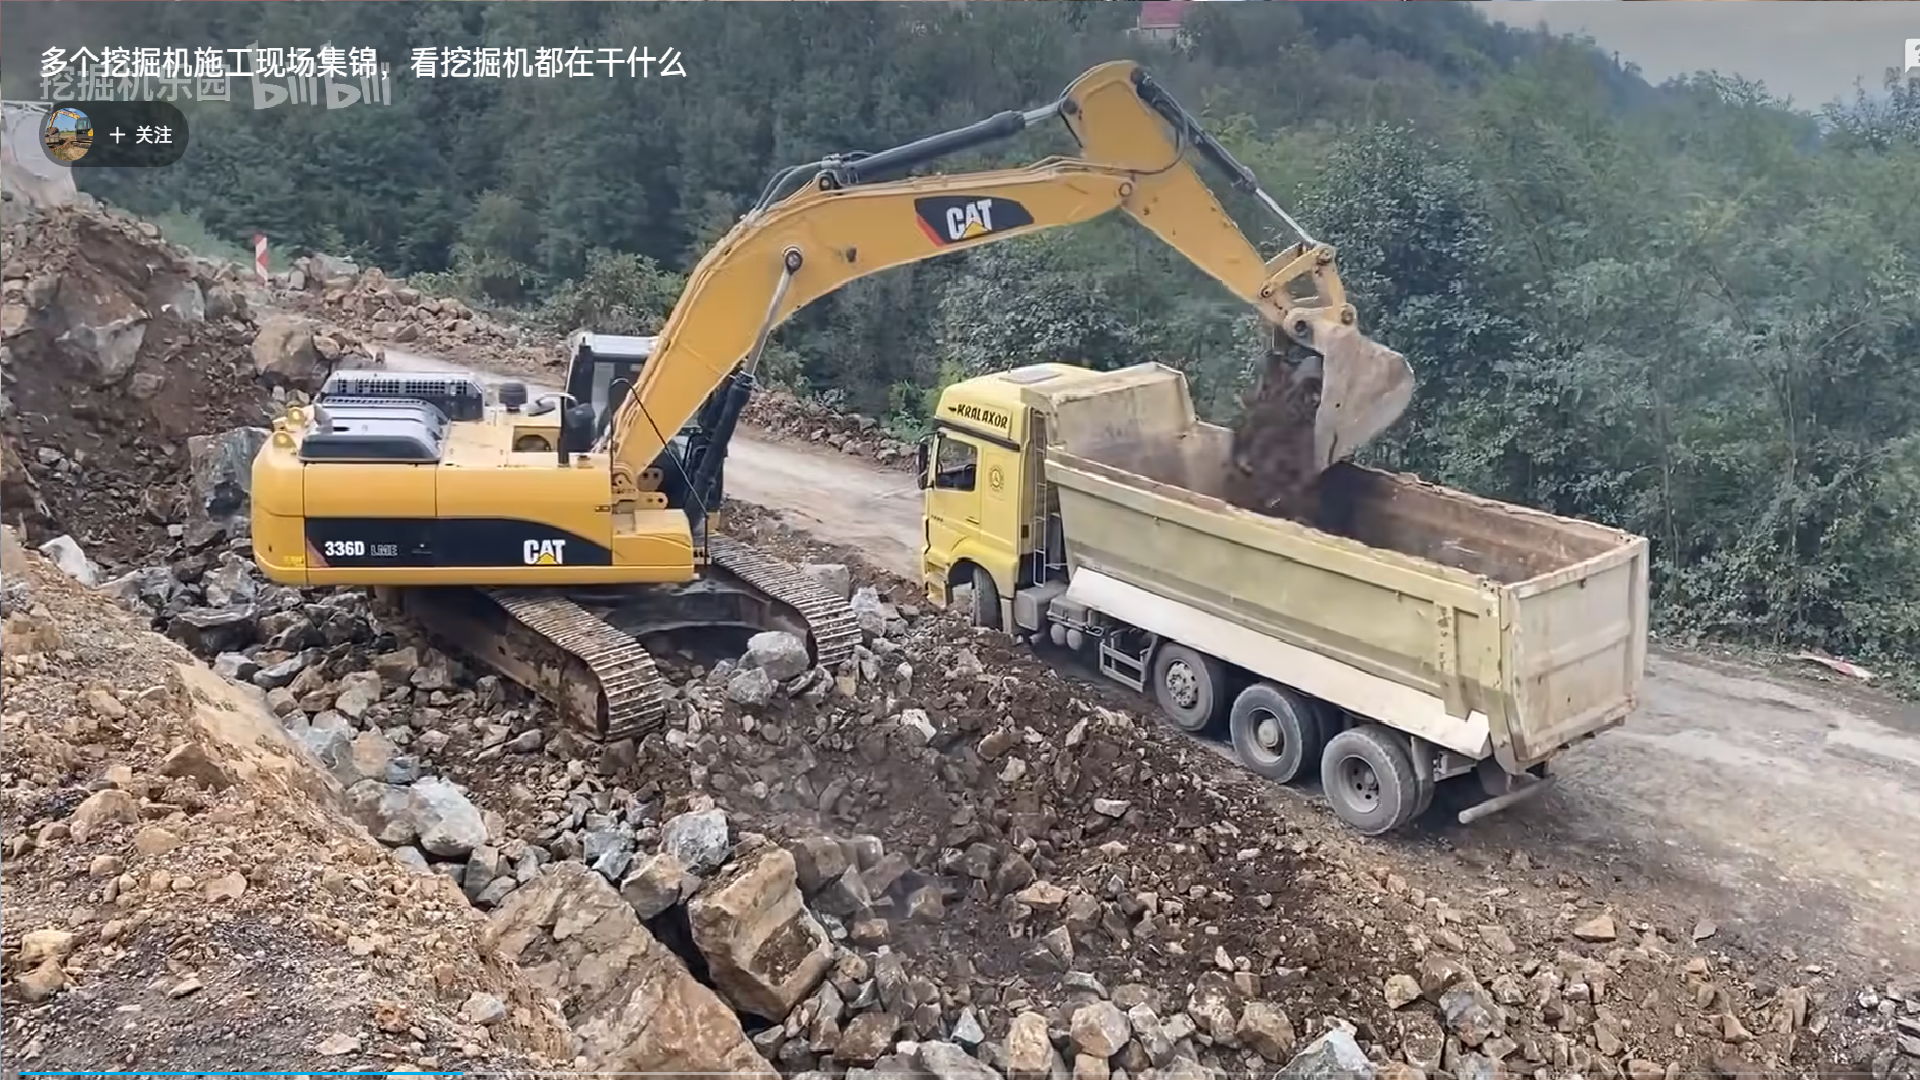excavator: (221, 58, 1442, 715)
